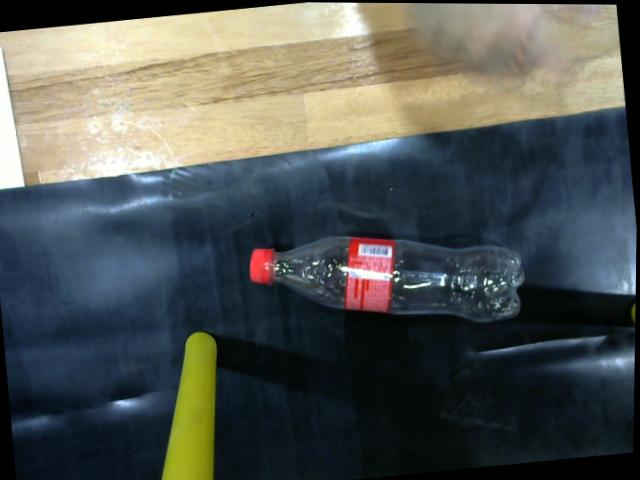bottle: (246, 233, 524, 323)
